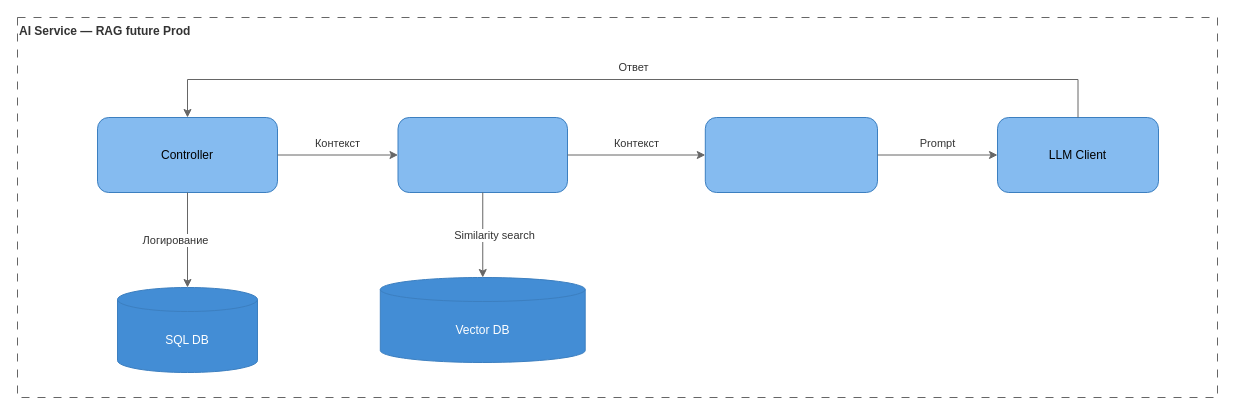
Image size: 1235x415. Some labels were removed from this diagram. The shapes that lost their labels are listed below. From the top down, each one's centre as x and y in pixels, then its label:
[482,154]: RAG Manager
[791,154]: Prompt Template Factory
